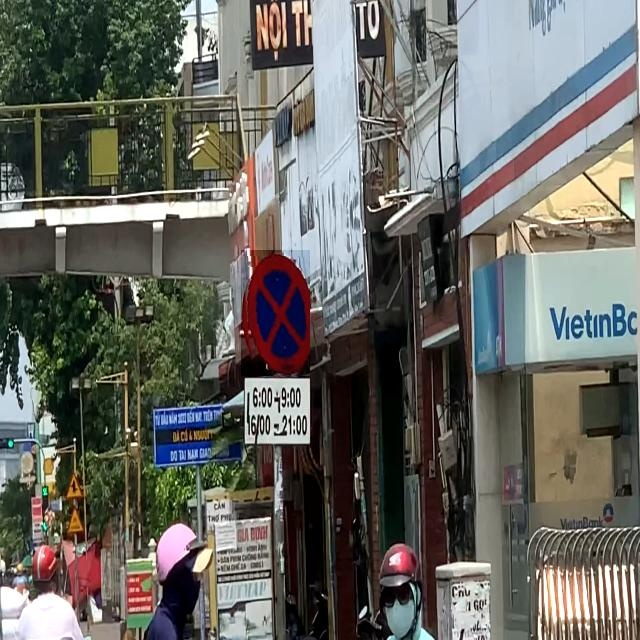bien_cam: (241, 250, 310, 376)
